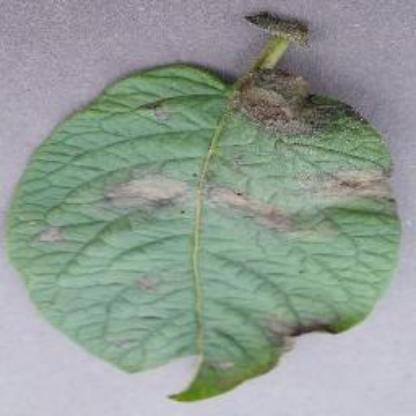Late-Blight: (9, 13, 395, 403)
